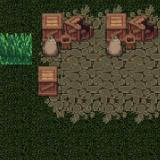Hide: (24, 55, 71, 103)
Obstacle: (33, 2, 98, 65), (99, 2, 160, 65)
Slow: (0, 34, 33, 64)
